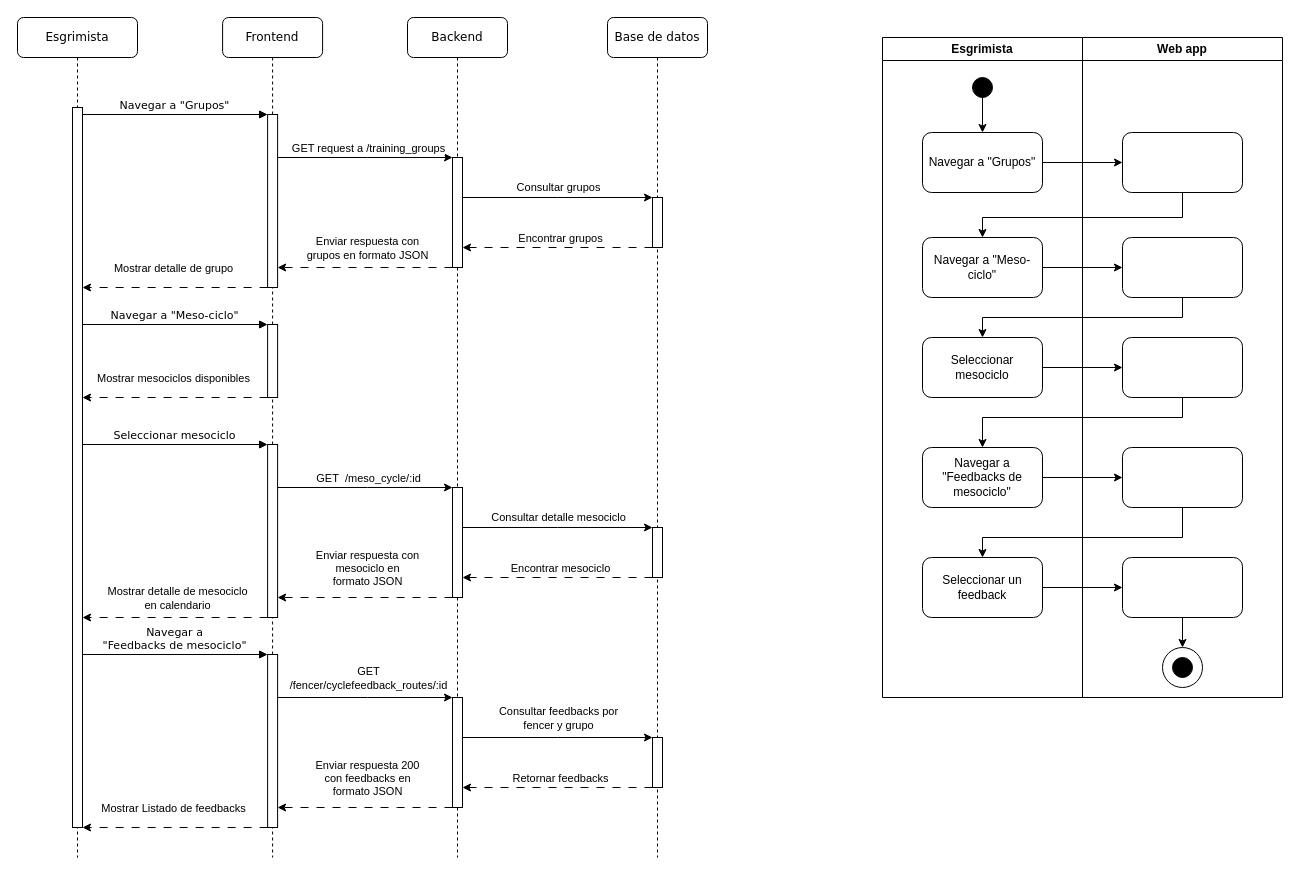
The diagram is 1300 pixels wide and 875 high, and some of its shapes have lost their labels. Here are the shapes that lost their labels. From the top down, the centre of each, then its label:
(1182,162): Mostrar detalle del grupo
(1182,267): Mostrar listado de mesociclos
(1182,367): Mostrar detalle de mesociclo
(1182,477): Mostrar listado de feedbacks de mesociclo
(1182,587): Mostrar detalle del feedback
